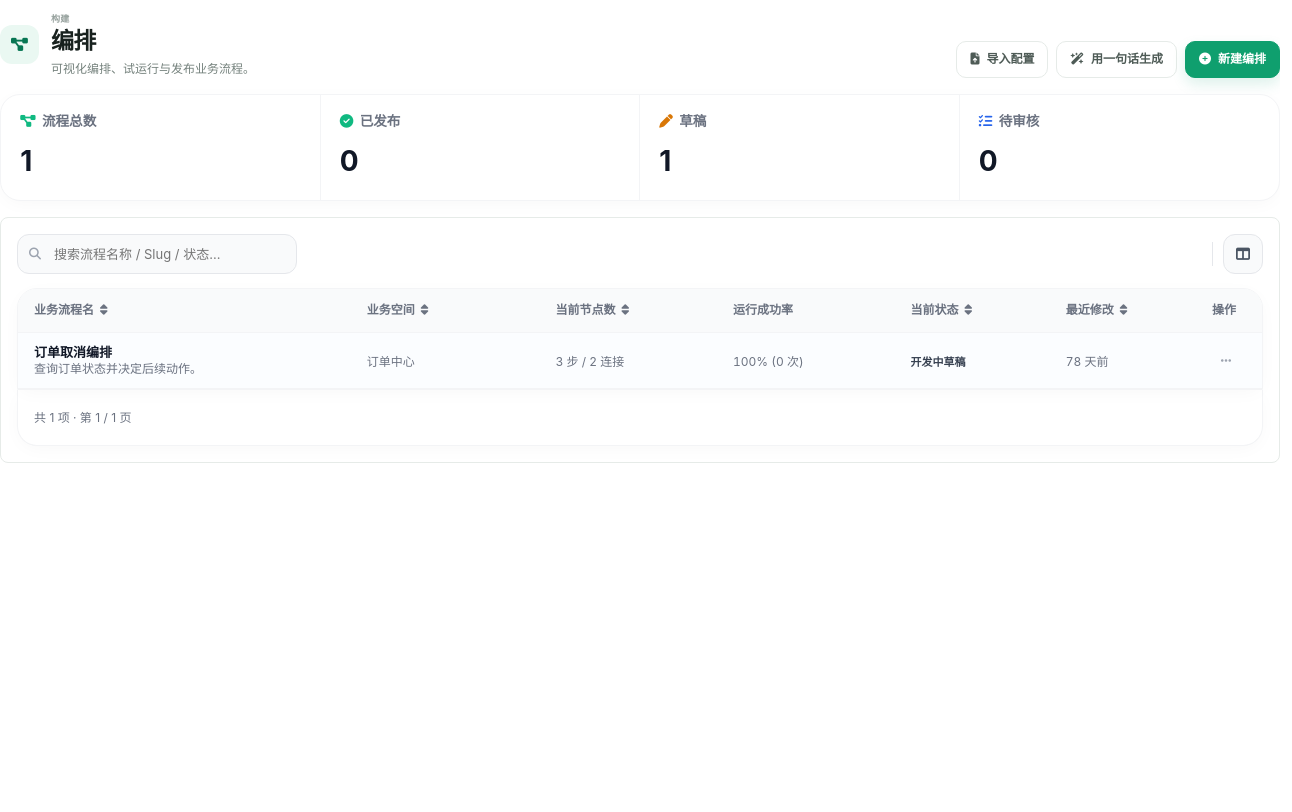
it: workflow view P1.4 › renders shared workflow row actions as a menu-only overflow in semantic order
The image size is (1292, 812).
Click the button named "更多编排操作" at [1226, 361], box [1208,343,1244,379]
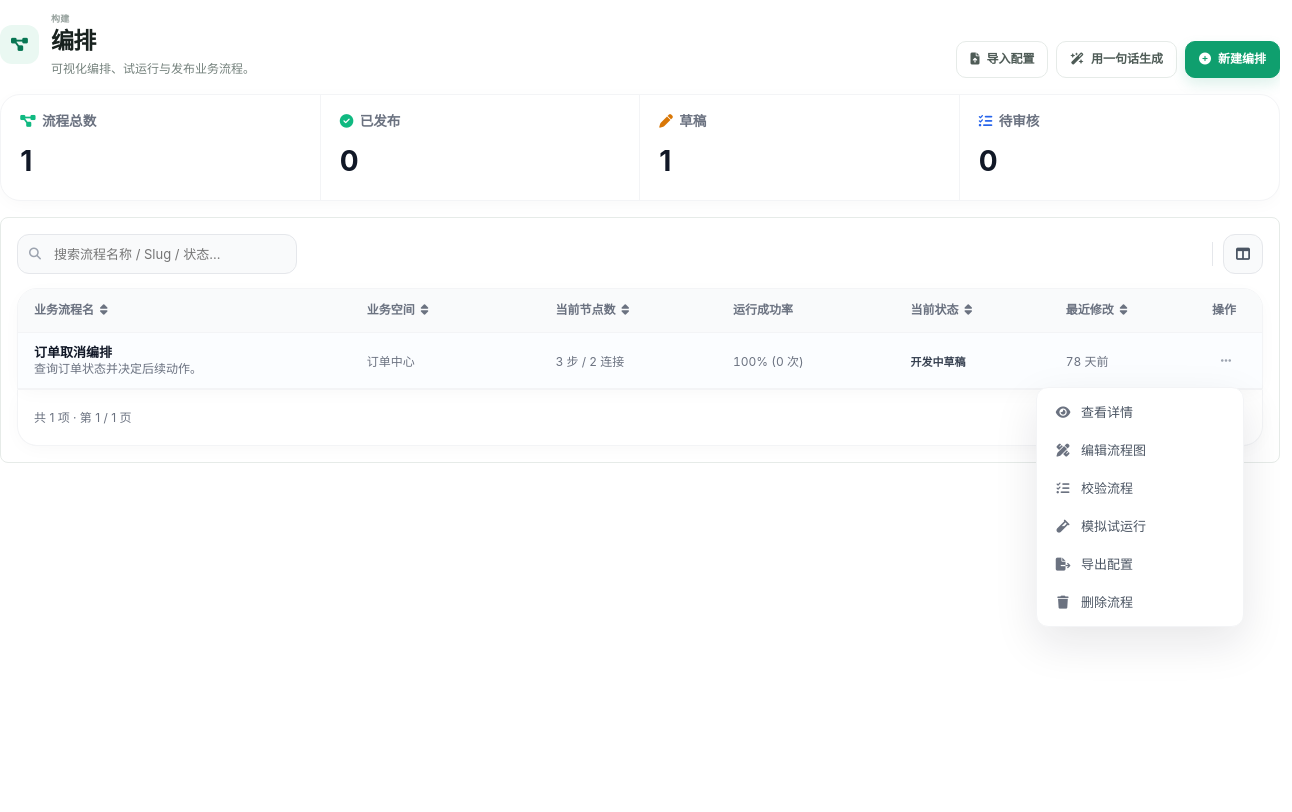
Expected: the menu named "更多编排操作" is shown, [1036,387,1244,627]
